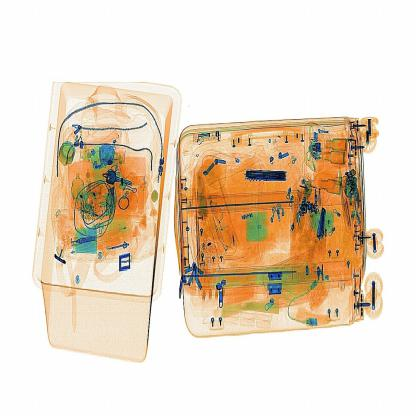scissors: (245, 166, 294, 184)
